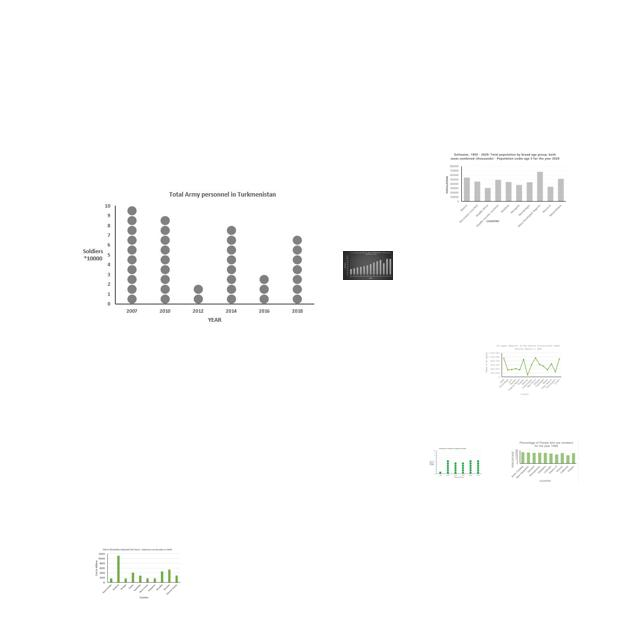Graph: (74, 186, 320, 329), (443, 152, 568, 228), (93, 547, 182, 600), (483, 343, 563, 397), (510, 440, 579, 483), (428, 447, 483, 479), (343, 251, 393, 280)
